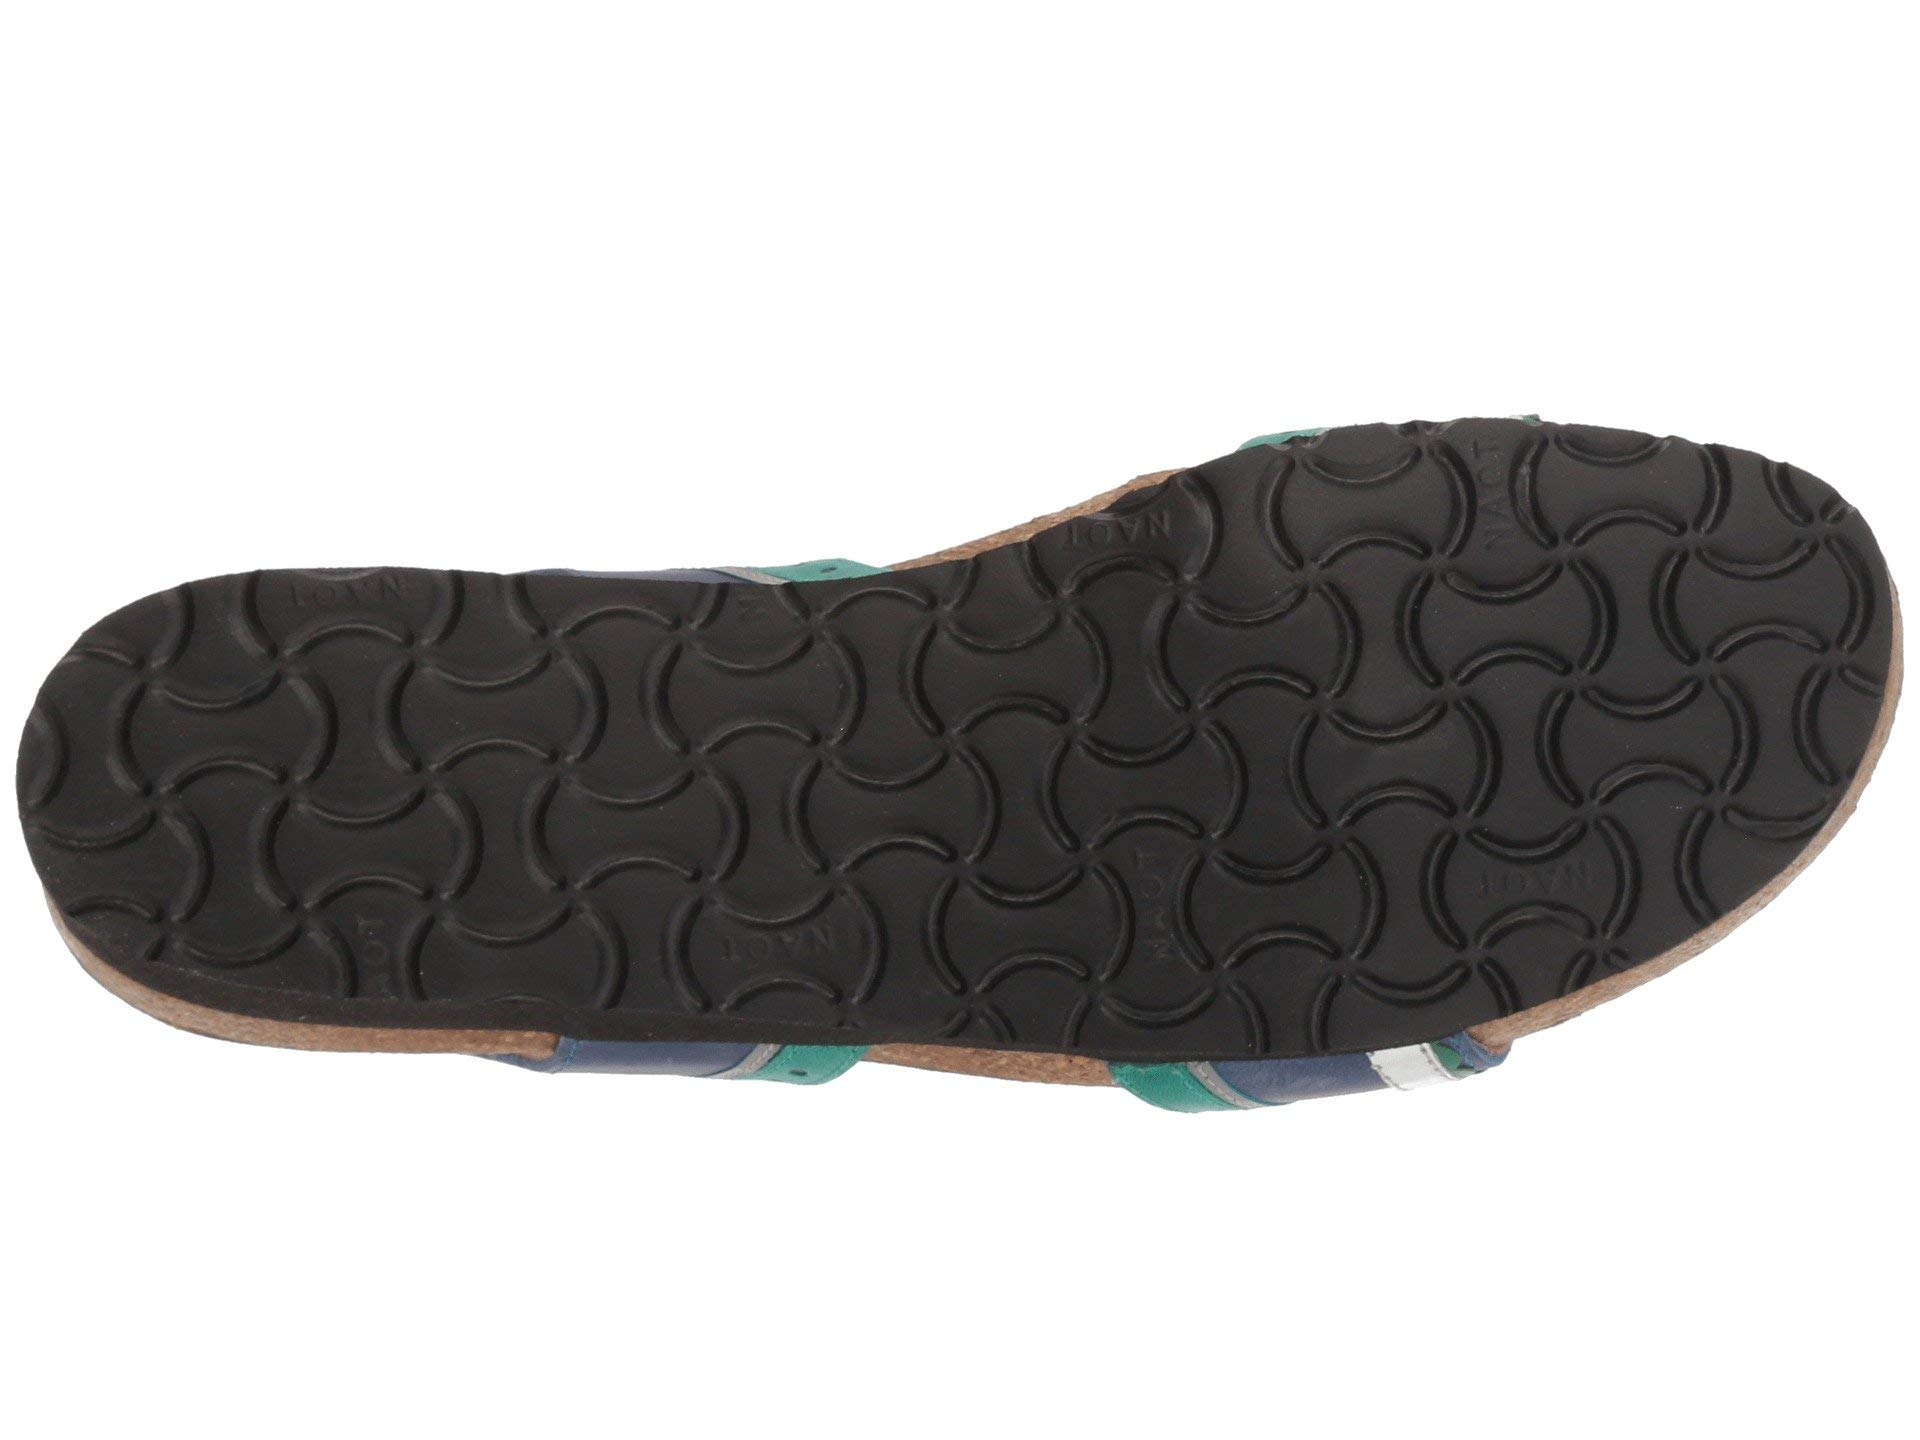bowtie: (753, 616, 1519, 1004), (141, 591, 724, 989), (1580, 481, 1832, 830), (1256, 427, 1560, 608)
text: (753, 616, 1519, 1004), (141, 591, 724, 989), (1256, 427, 1560, 608)
